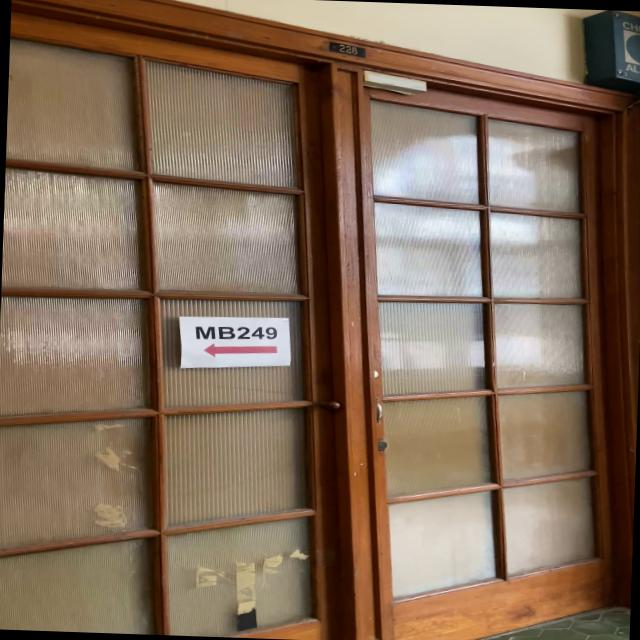room228: (327, 40, 368, 58)
